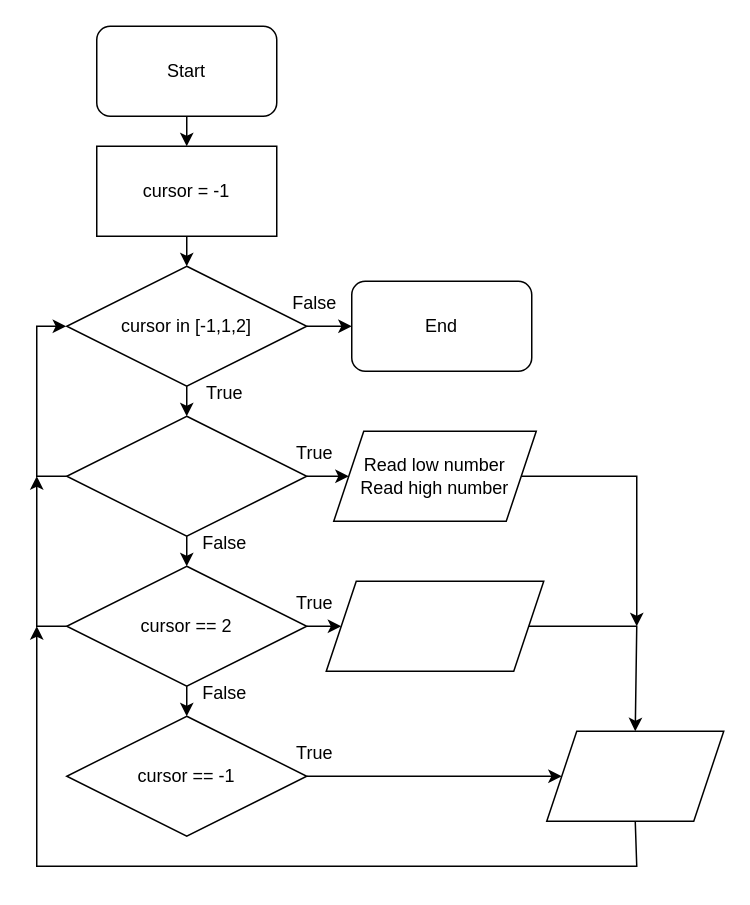
This 750x905 diagram has some shape labels left out. Each missing label, with the box of its shape:
cursor == 1: (65, 415, 307, 536)
Read attemp number: (325, 580, 544, 671)
Read cursor: (545, 730, 724, 821)
